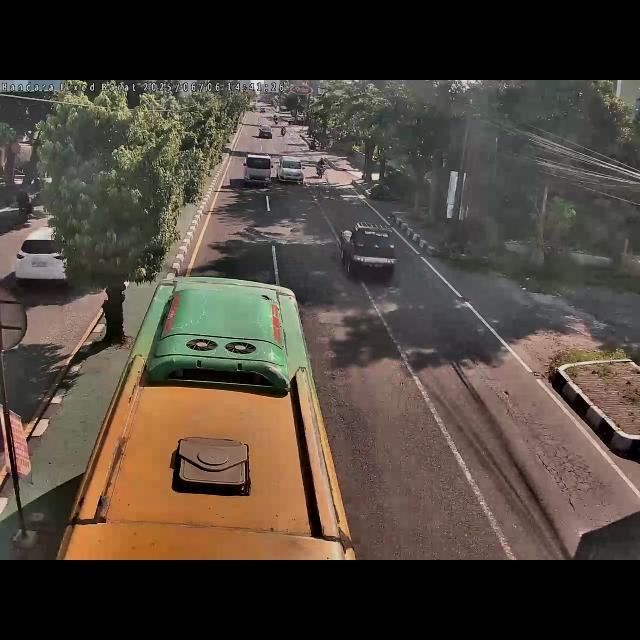Bis: (54, 272, 362, 560)
Mobil: (276, 154, 304, 186), (316, 156, 328, 180)
Motor: (242, 152, 276, 188)
Truk: (338, 220, 402, 282)
